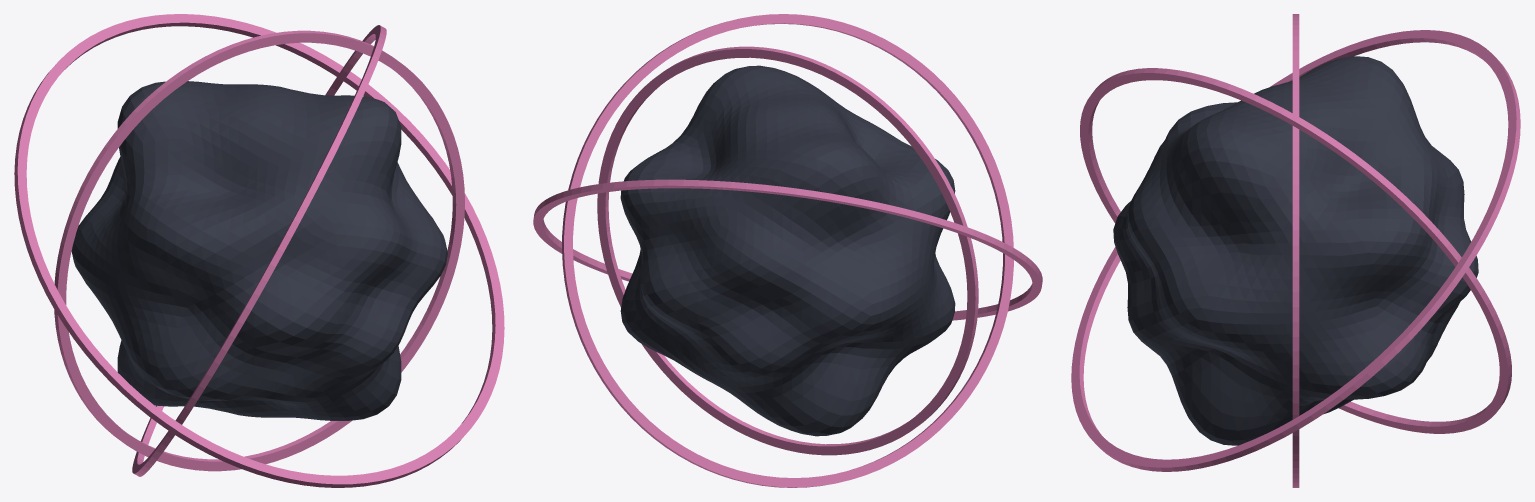
The model's file is gpu-artifact.glb.
3 renders of one model, left to right at view 1: azimuth 30°, elevation 25°; view 2: azimuth 150°, elevation 25°; view 3: azimuth 270°, elevation 25°, orthographic. The views are drawn at different scales.
Parts seen in each view (by area): view 1: schema-illustrator-studio_obsidian_core, schema-illustrator-studio_orbital_ring_2, schema-illustrator-studio_orbital_ring_0, schema-illustrator-studio_orbital_ring_1; view 2: schema-illustrator-studio_obsidian_core, schema-illustrator-studio_orbital_ring_1, schema-illustrator-studio_orbital_ring_0, schema-illustrator-studio_orbital_ring_2; view 3: schema-illustrator-studio_obsidian_core, schema-illustrator-studio_orbital_ring_2, schema-illustrator-studio_orbital_ring_1, schema-illustrator-studio_orbital_ring_0.
Boxes of the visible parts, x1=… form: schema-illustrator-studio_obsidian_core: x1=71, y1=81, x2=447, y2=420; schema-illustrator-studio_orbital_ring_2: x1=14, y1=14, x2=504, y2=487; schema-illustrator-studio_orbital_ring_0: x1=54, y1=30, x2=464, y2=471; schema-illustrator-studio_orbital_ring_1: x1=132, y1=25, x2=386, y2=476; schema-illustrator-studio_obsidian_core: x1=620, y1=65, x2=955, y2=436; schema-illustrator-studio_orbital_ring_1: x1=562, y1=14, x2=1013, y2=487; schema-illustrator-studio_orbital_ring_0: x1=597, y1=46, x2=978, y2=455; schema-illustrator-studio_orbital_ring_2: x1=533, y1=179, x2=1042, y2=320; schema-illustrator-studio_obsidian_core: x1=1113, y1=56, x2=1478, y2=445; schema-illustrator-studio_orbital_ring_2: x1=1071, y1=30, x2=1520, y2=471; schema-illustrator-studio_orbital_ring_1: x1=1080, y1=68, x2=1511, y2=433; schema-illustrator-studio_orbital_ring_0: x1=1292, y1=14, x2=1299, y2=487.
Bounding box in the file's own units: 3.18 × 2.76 × 2.62.
